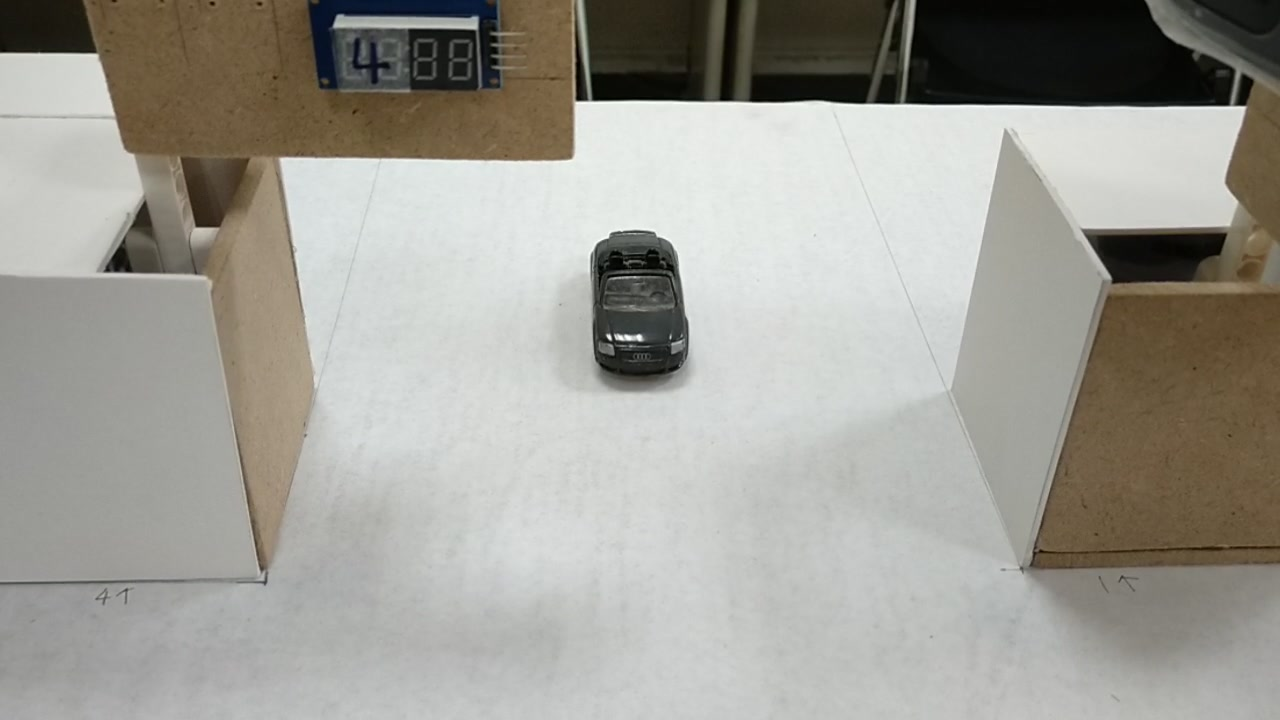car: (587, 235, 684, 367)
